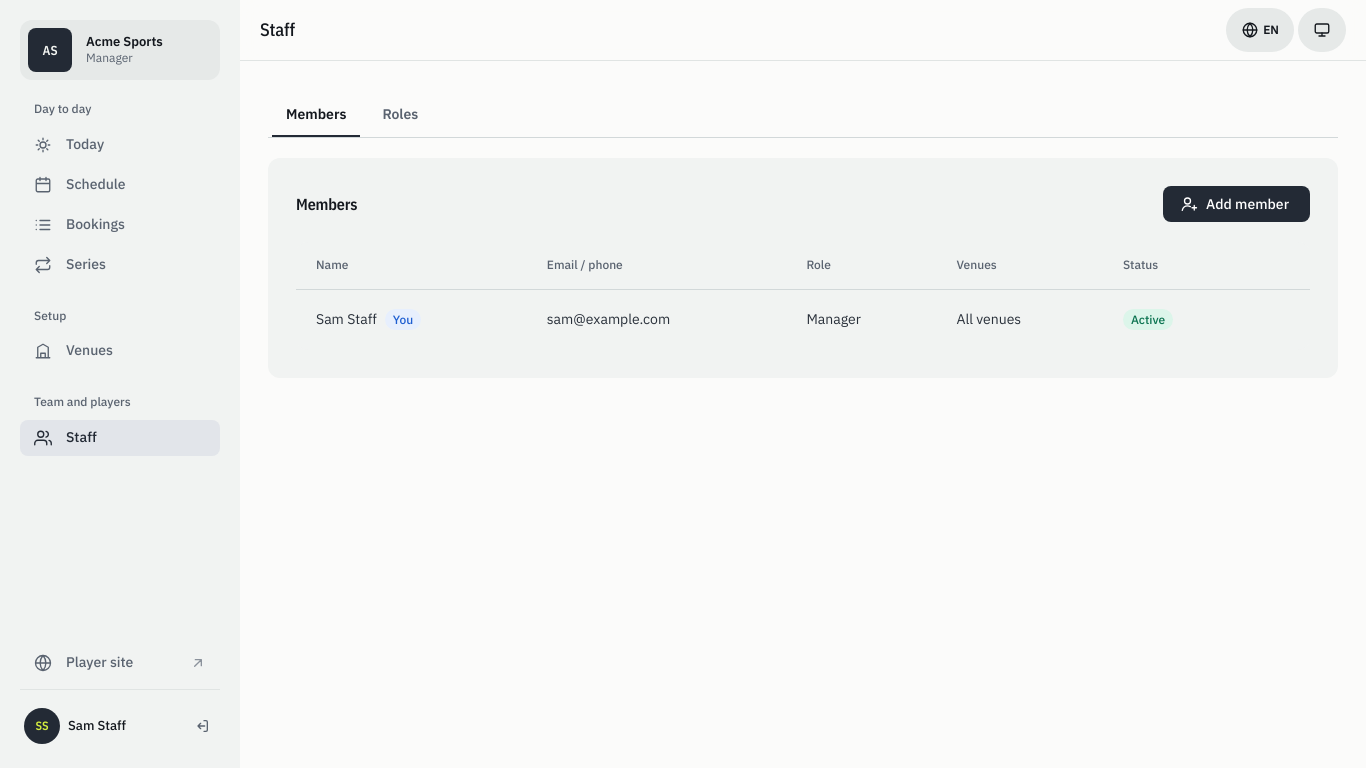
it: members › privilege_escalation is shown translated
Click the button "Add member". click: click(1236, 204)
box: [1163, 186, 1310, 222]
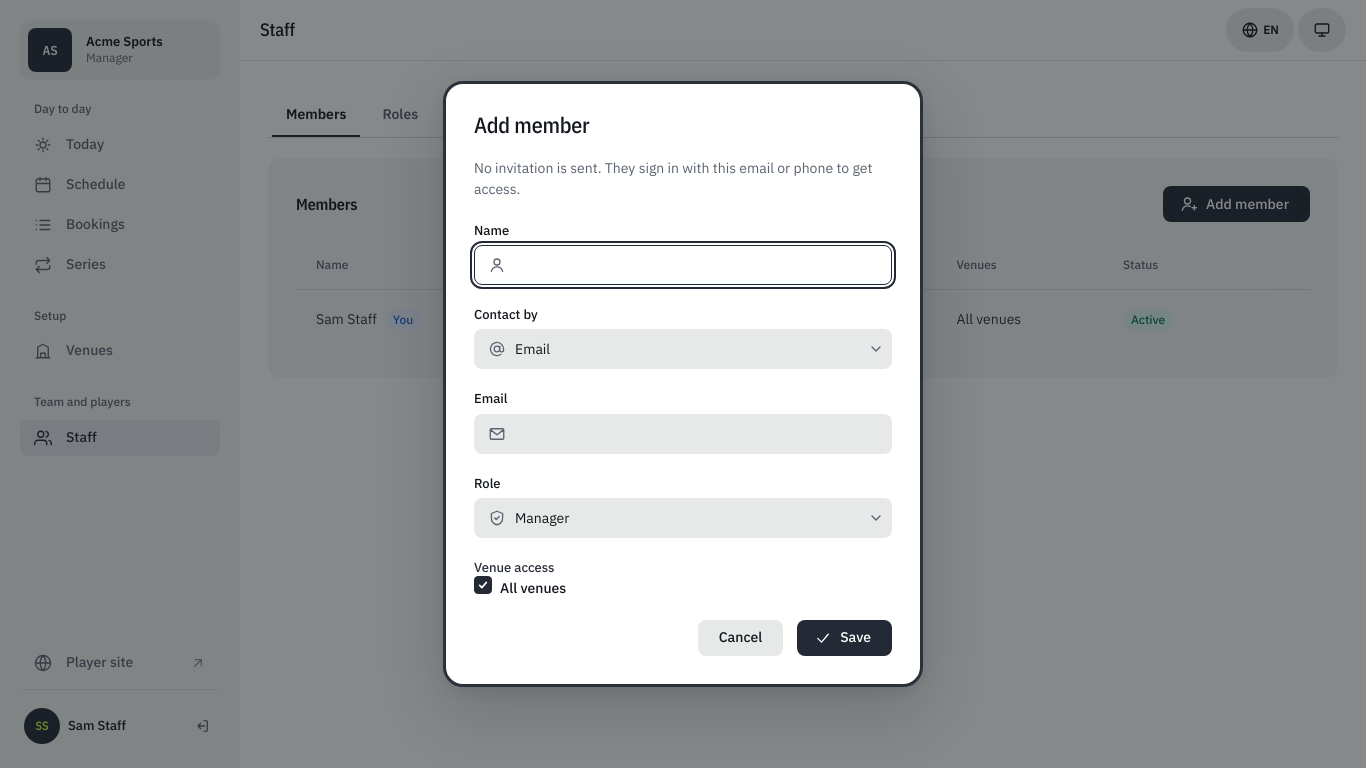
Type "New Person" into the field labelled "Name". click: (683, 265)
box: [474, 245, 892, 285]
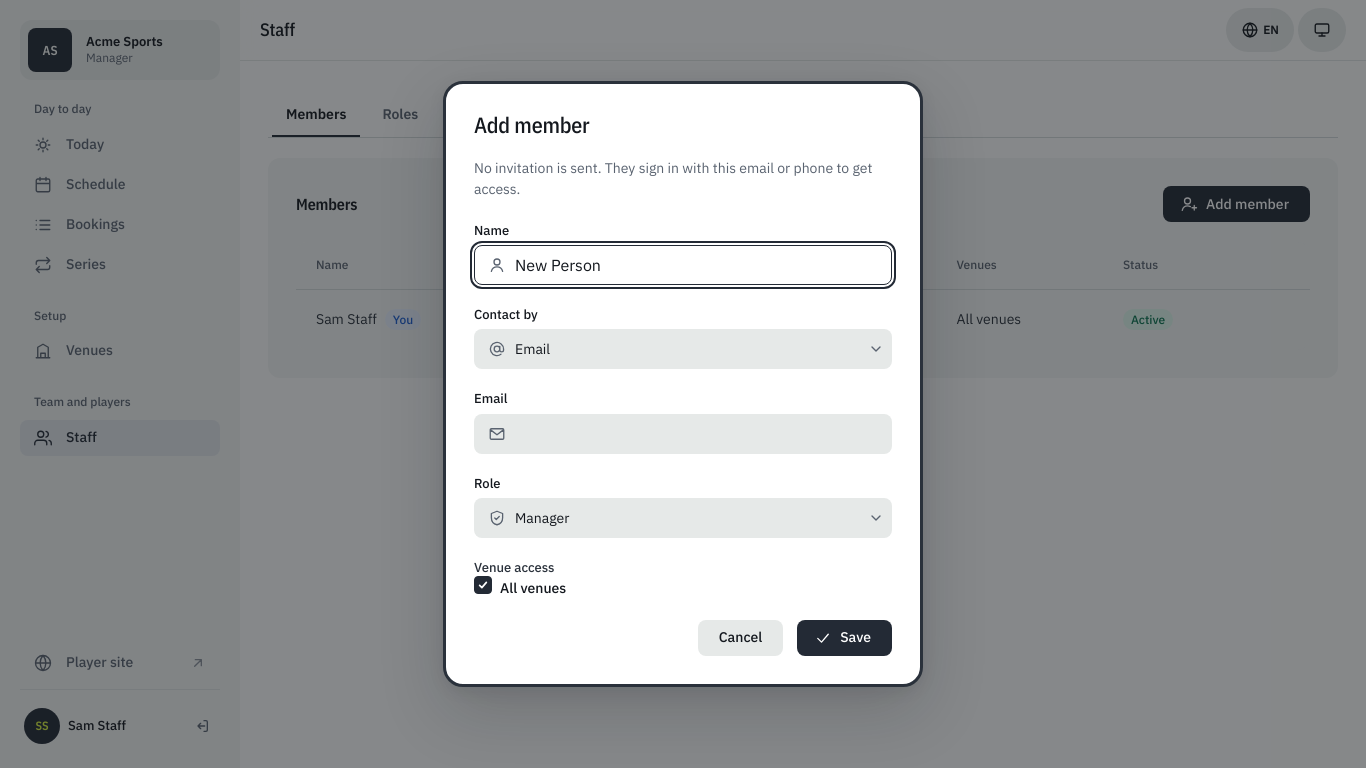
Type "new@example.com" into the field labelled "Email". click: (683, 434)
box: [474, 414, 892, 454]
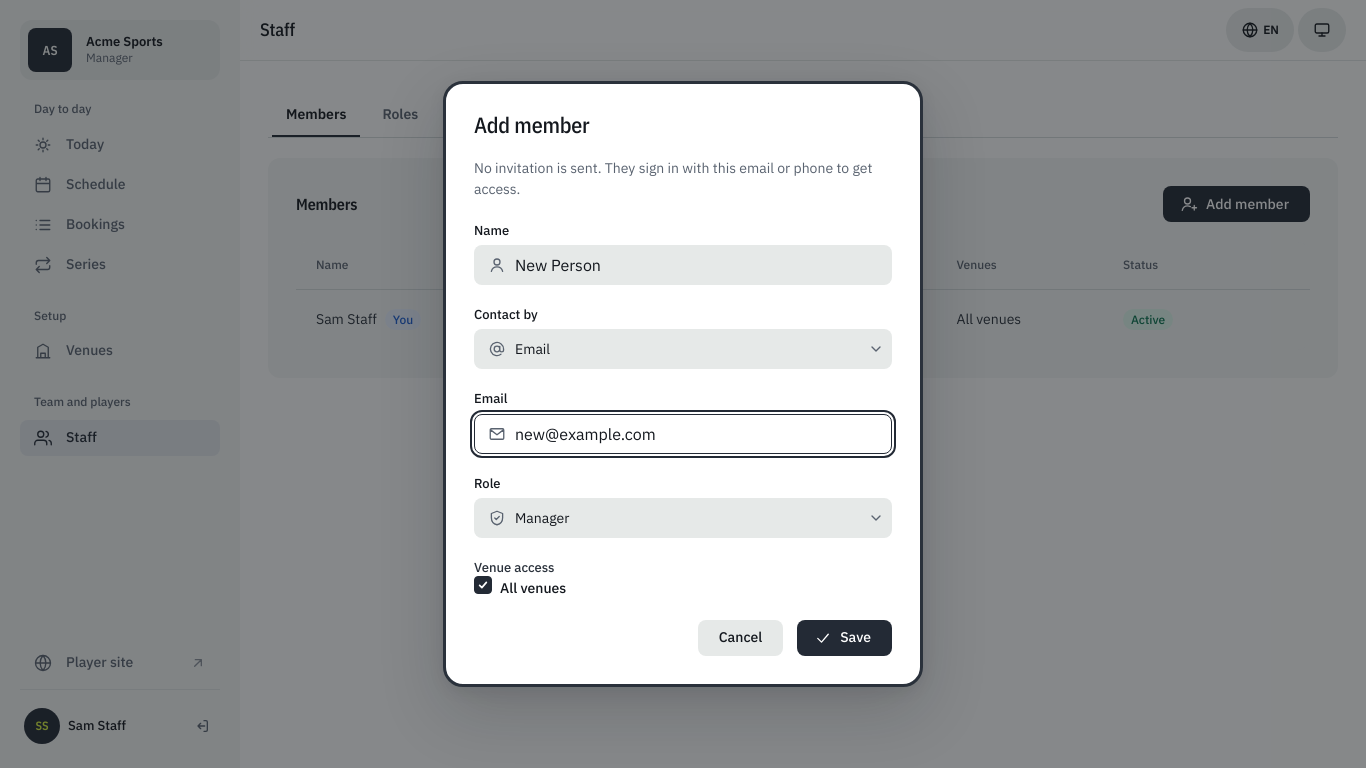
Click the button "Save". click: click(845, 638)
box: [797, 620, 892, 656]
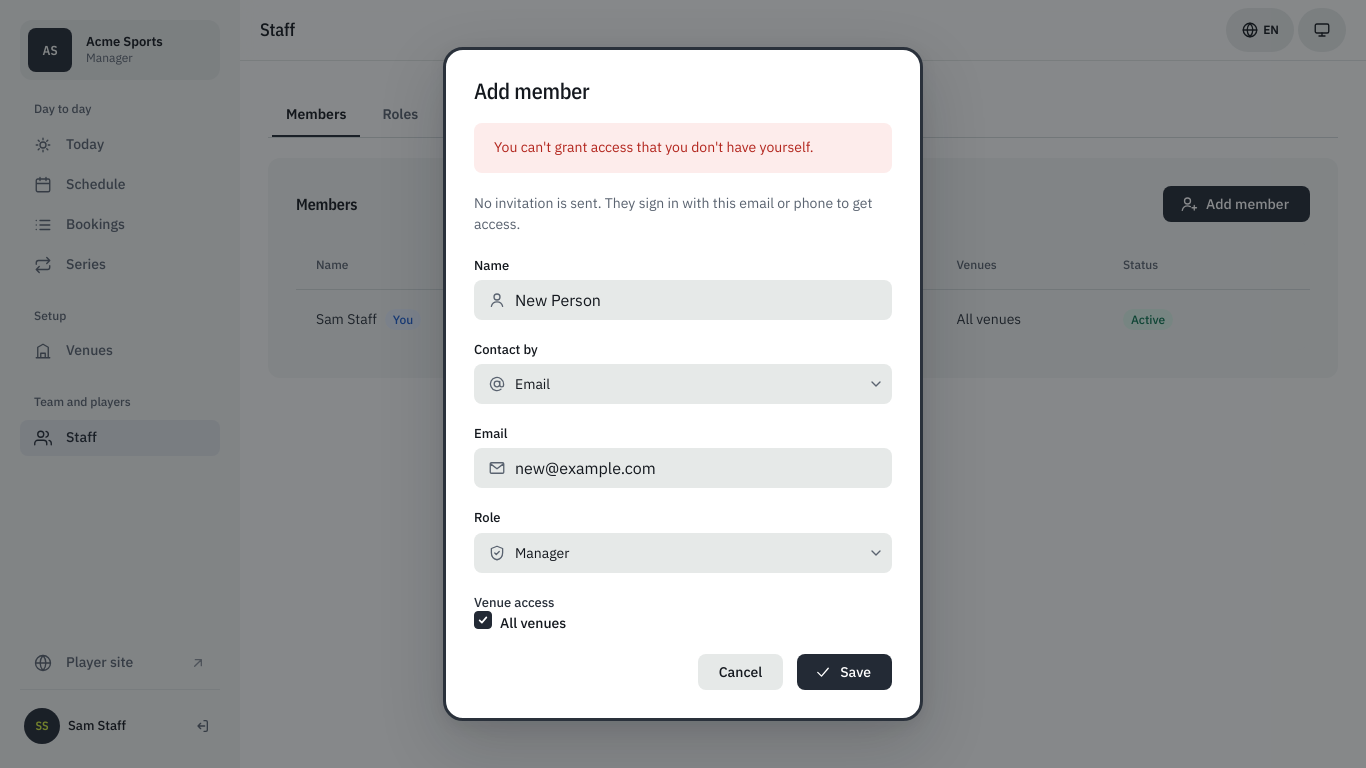
Expected: the text "You can't grant access that you don't have yourself." is shown, [474, 123, 892, 173]
